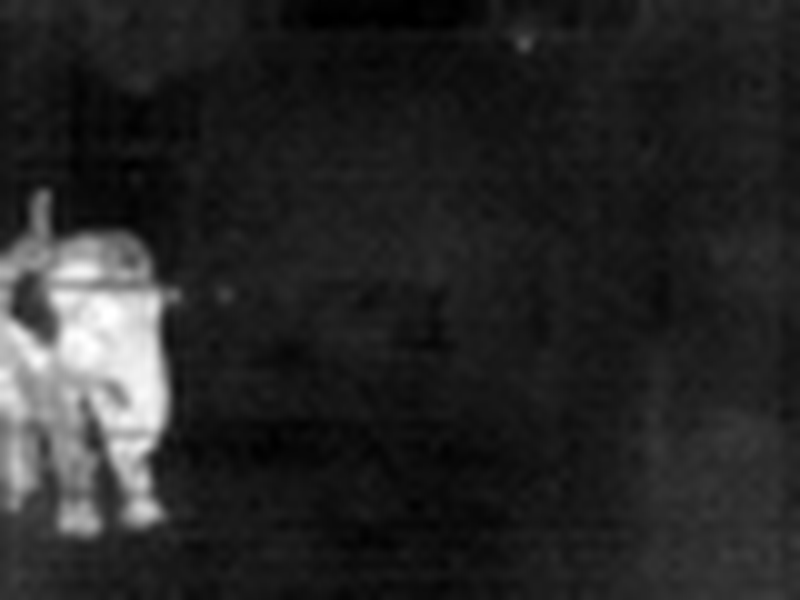elephant: (9, 218, 220, 531)
